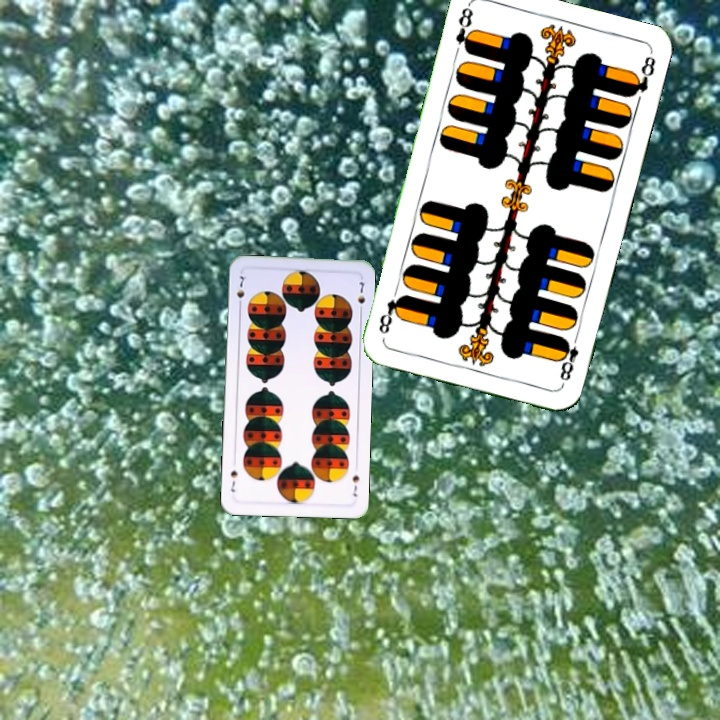E8: (555, 330, 581, 388), (451, 2, 477, 57)
S7: (233, 272, 249, 310), (348, 471, 361, 499)
